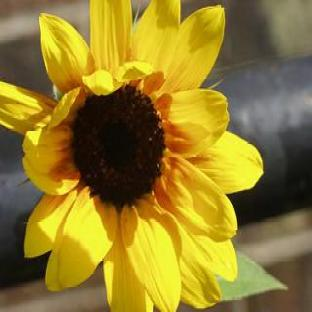sunflower: (0, 0, 263, 312)
